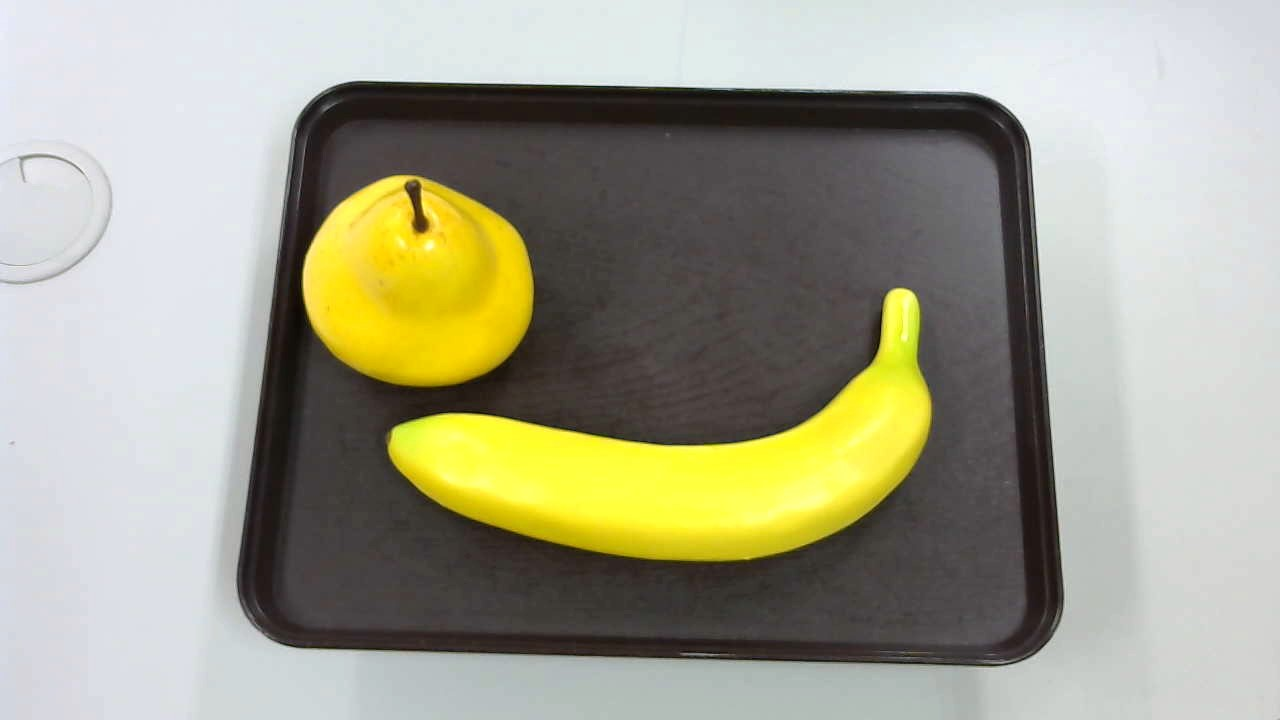banana: (375, 283, 952, 577)
yellow pear: (296, 177, 530, 379)
